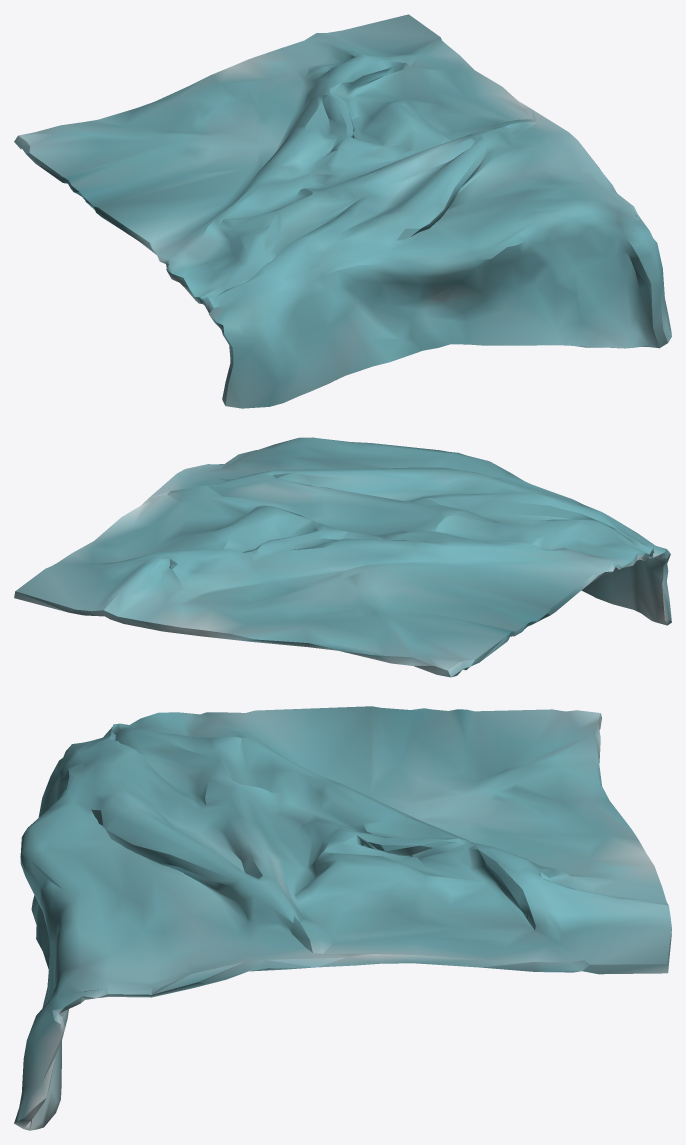
The model's file is Rug01.fbx.
The picture shows the model from 3 angles, top to bottom: view 1: azimuth 30°, elevation 25°; view 2: azimuth 150°, elevation 25°; view 3: azimuth 270°, elevation 25°; orthographic projection. The views are drawn at different scales.
Visible parts, largest first — view 1: Rug01; view 2: Rug01; view 3: Rug01.
Part boxes in pixels (left/top/right/bottom): Rug01: left=14, top=14, right=671, bottom=408; Rug01: left=14, top=437, right=671, bottom=677; Rug01: left=14, top=706, right=671, bottom=1130.
Bounding box in the file's own units: 200 × 72.56 × 211.
